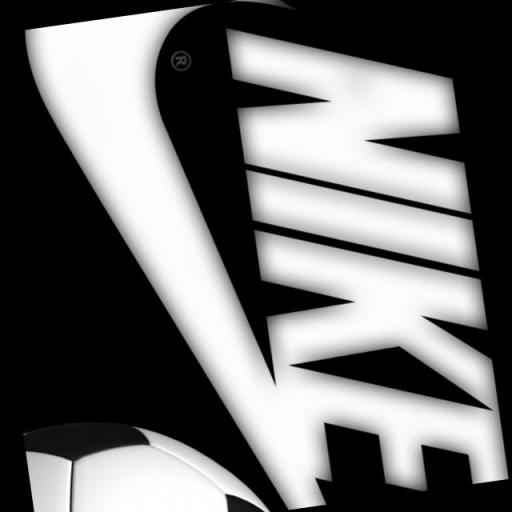Nike: (222, 0, 505, 510)
